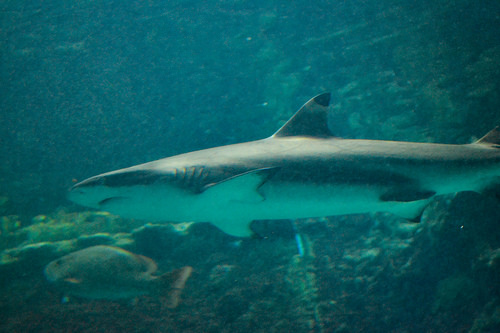shark: (56, 53, 497, 250)
